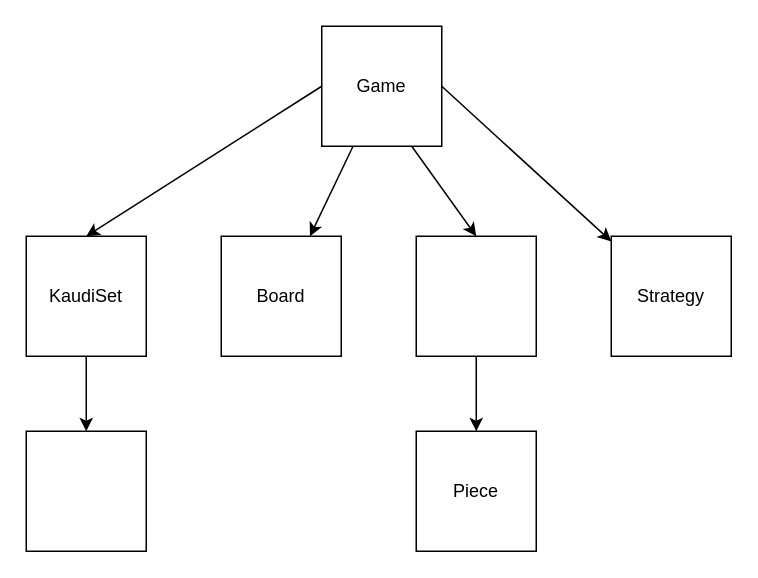
Some shapes in this 758 by 578 pixel diagram are drawn without their labels. The shapes that lost their labels are listed below. From the top down, each one's centre as x and y in pixels, then its label:
At point (475, 295): "Player".
At point (85, 490): "Kaudi".
